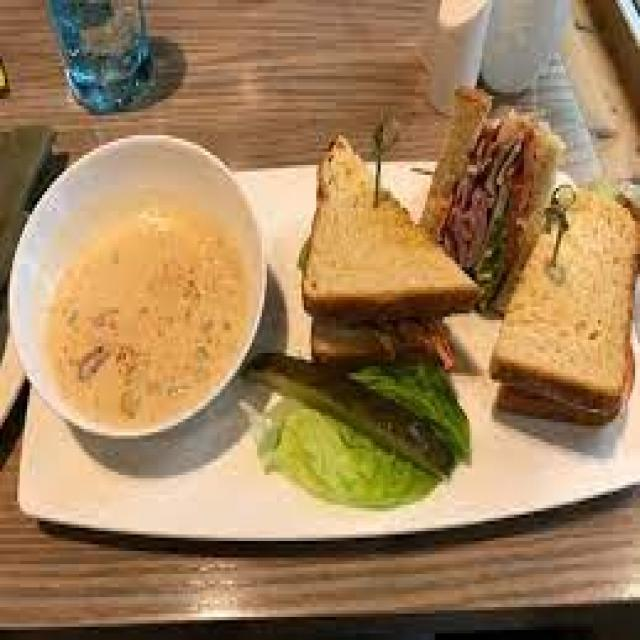Sandwich: (270, 66, 638, 485)
